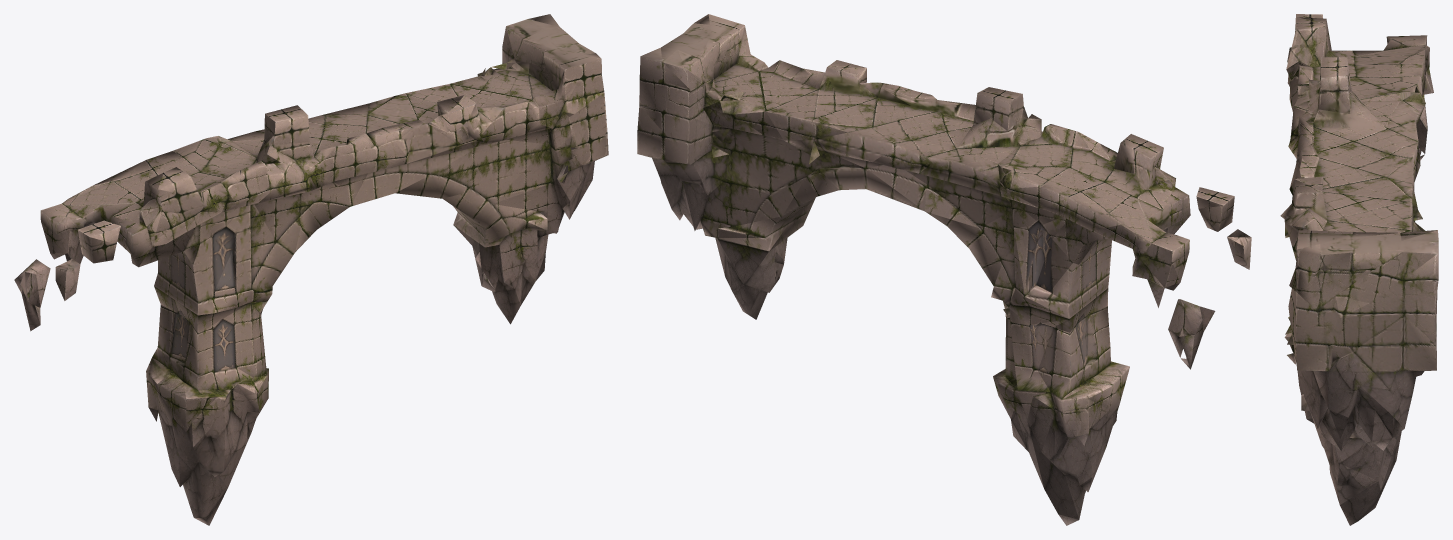
The model's file is SM_FloatingRuinBridge.fbx.
The picture shows the model from 3 angles, left to right: view 1: azimuth 30°, elevation 25°; view 2: azimuth 150°, elevation 25°; view 3: azimuth 270°, elevation 25°; orthographic projection. The views are drawn at different scales.
Parts seen in each view (by area): view 1: Mesh_0; view 2: Mesh_0; view 3: Mesh_0.
Boxes of the visible parts, x1=… form: Mesh_0: x1=14, y1=14, x2=608, y2=525; Mesh_0: x1=637, y1=14, x2=1251, y2=525; Mesh_0: x1=1280, y1=14, x2=1438, y2=525.
Bounding box in the file's own units: 189 × 132 × 39.58.
Materials: 1 (1 with a texture image).
